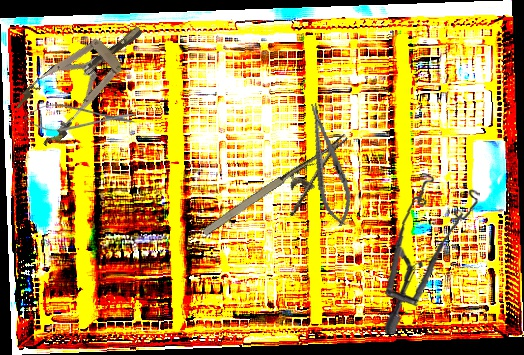Micro Scissor: (24, 104, 136, 132)
Needle Holder: (198, 133, 368, 261), (299, 100, 358, 229)
Speculum: (9, 6, 161, 151), (371, 168, 492, 335)
